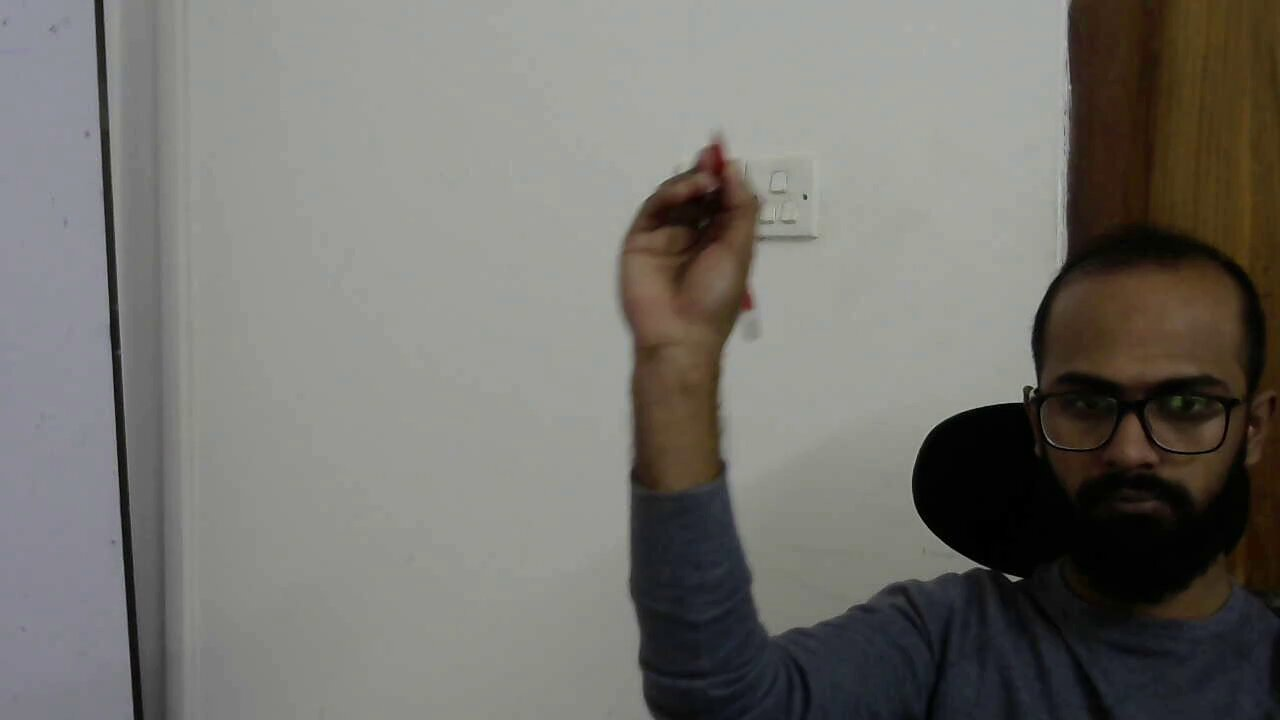pointer: (628, 150, 759, 289)
